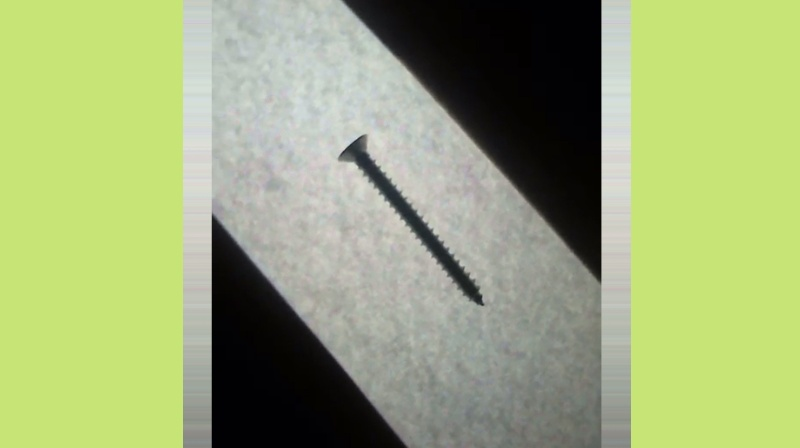S002: (336, 128, 487, 307)
